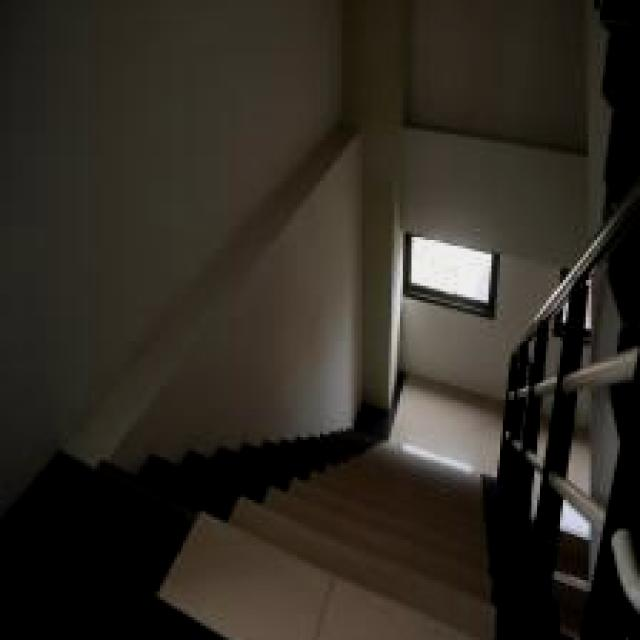downstair: (173, 438, 513, 640)
